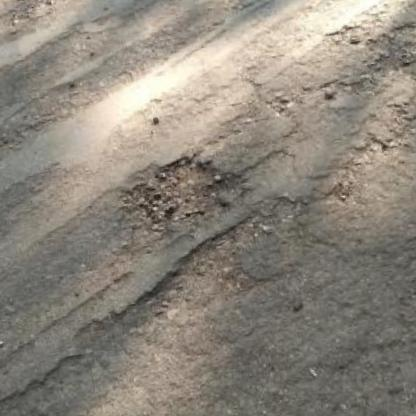pothole: (114, 144, 250, 236)
